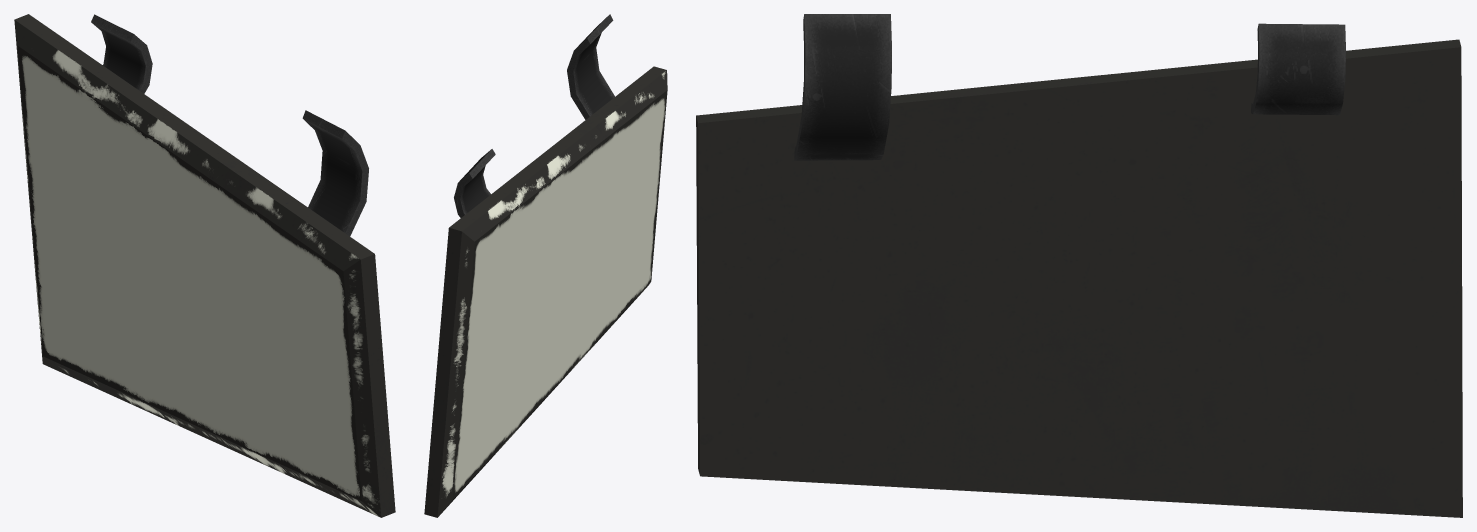
Rendered from Shutter Front.obj.
The picture shows the model from 3 angles, left to right: view 1: azimuth 30°, elevation 25°; view 2: azimuth 150°, elevation 25°; view 3: azimuth 270°, elevation 25°; orthographic projection. The views are drawn at different scales.
Parts seen in each view (by area): view 1: Object012; view 2: Object012; view 3: Object012.
Boxes of the visible parts, x1=… form: Object012: x1=14, y1=14, x2=395, y2=517; Object012: x1=424, y1=14, x2=667, y2=517; Object012: x1=696, y1=14, x2=1462, y2=517.
Size of the model in its own units: 10.32 by 37.86 by 50.04.
1 material, 1 textured.
